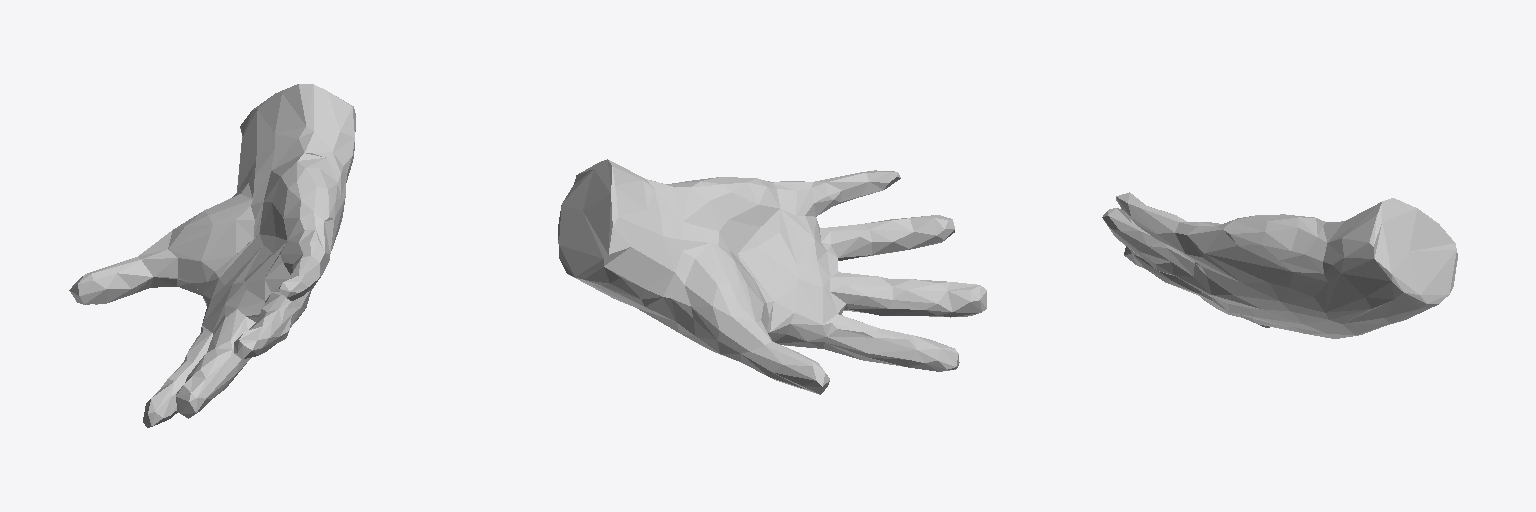
File: hand1.obj
The picture shows the model from 3 angles: view 1: azimuth 30°, elevation 25°; view 2: azimuth 150°, elevation 25°; view 3: azimuth 270°, elevation 25°; orthographic projection.
Parts seen in each view (by area): view 1: mano1:Mesh group2; view 2: mano1:Mesh group2; view 3: mano1:Mesh group2.
Part boxes in pixels (x1,y1,x2,y2): mano1:Mesh group2: (69,84,355,427); mano1:Mesh group2: (558,159,986,394); mano1:Mesh group2: (1102,192,1457,338).
Bounding box in the file's own units: 3.77 × 2.57 × 3.86.